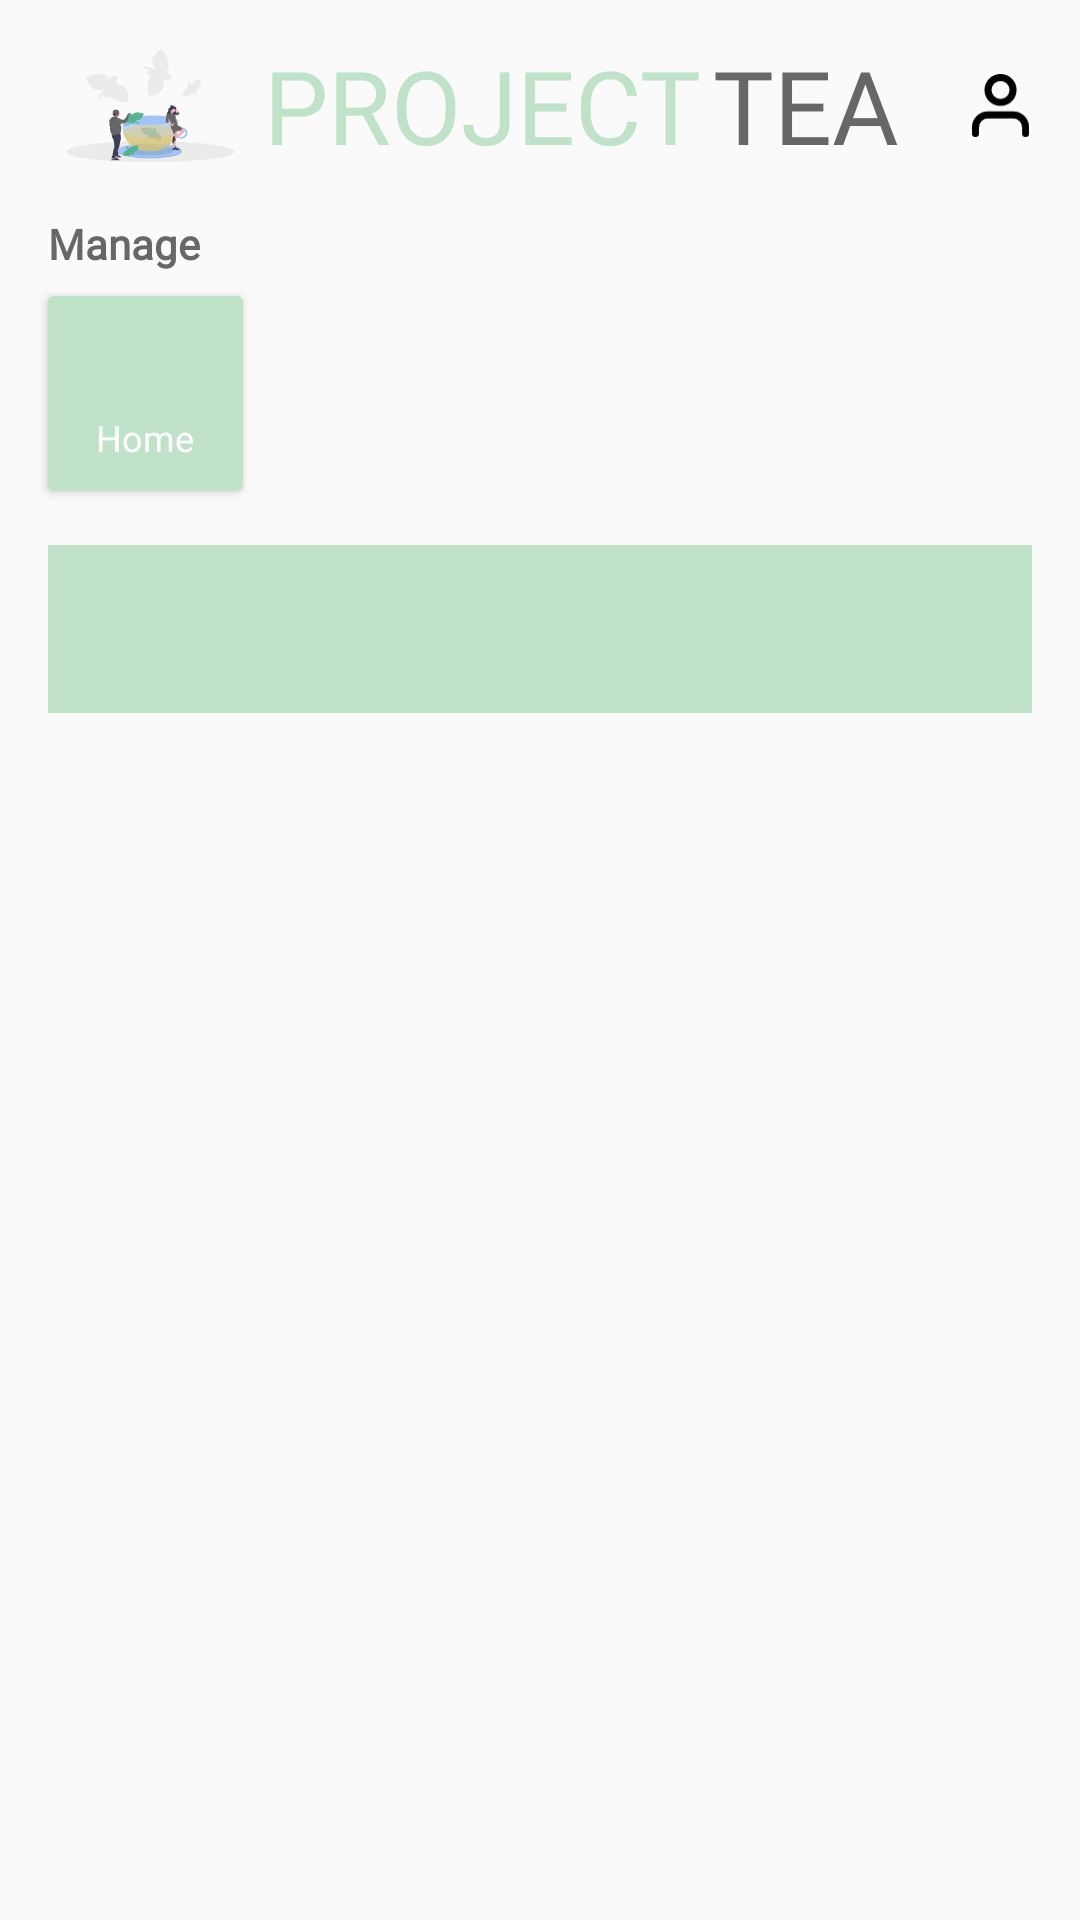

Where icons sit on this 1080*1920 app screen, as rect(x1, y1, x2, y2):
user: rect(972, 74, 1029, 137)
